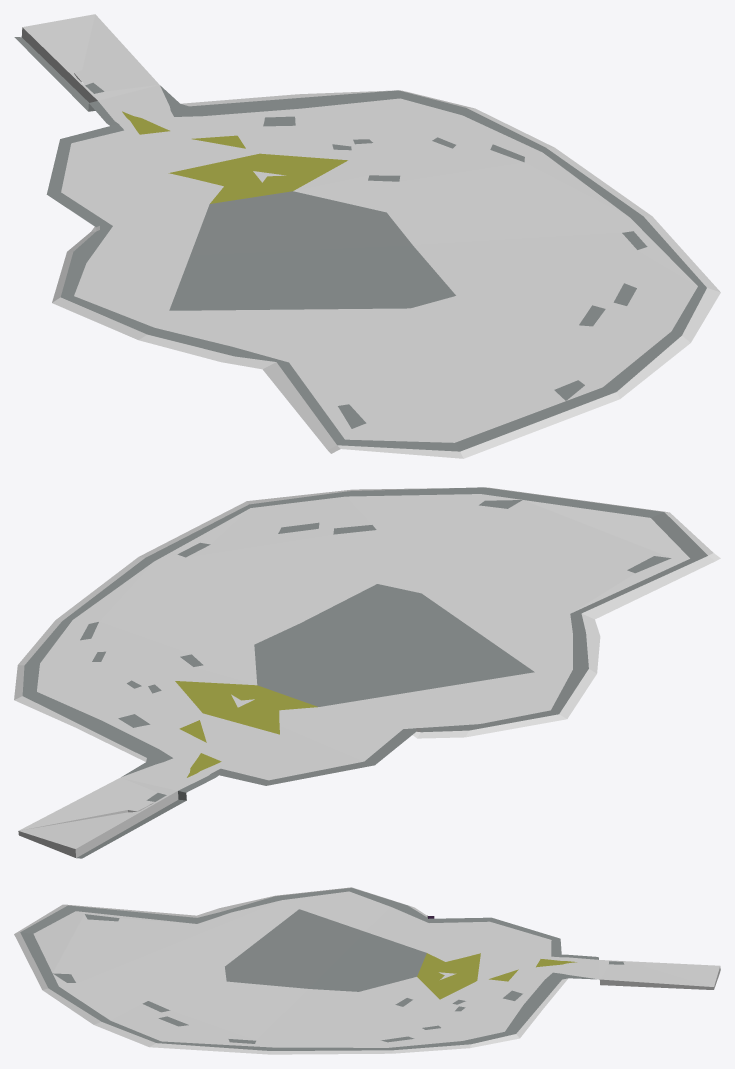
The model's file is terrainb 1.fbx.
The picture shows the model from 3 angles, top to bottom: view 1: azimuth 30°, elevation 25°; view 2: azimuth 150°, elevation 25°; view 3: azimuth 270°, elevation 25°; orthographic projection. The views are drawn at different scales.
Parts seen in each view (by area): view 1: Cube; view 2: Cube; view 3: Cube.
Part boxes in pixels (x1,y1,x2,y2): Cube: (14, 14, 720, 458); Cube: (14, 487, 720, 858); Cube: (14, 887, 720, 1054).
Bounding box in the file's own units: 6224 × 196 × 11030.
